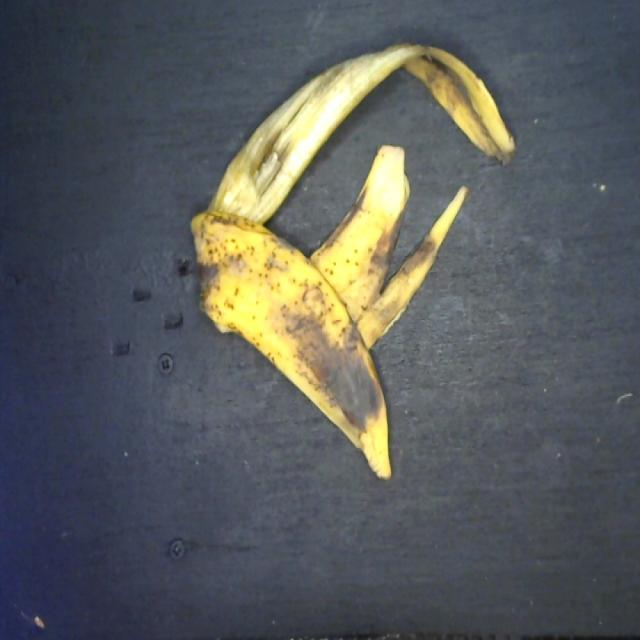biodegradable: (184, 32, 520, 492)
